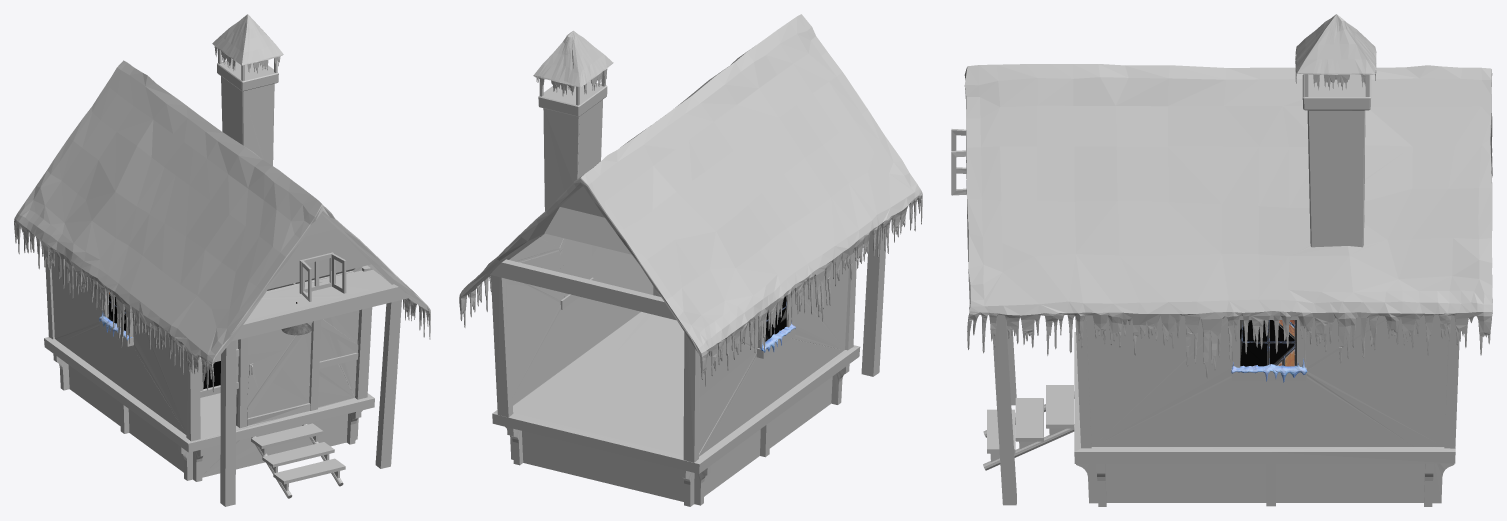
Rendered from Cabin.gltf.
The picture shows the model from 3 angles, left to right: view 1: azimuth 30°, elevation 25°; view 2: azimuth 150°, elevation 25°; view 3: azimuth 270°, elevation 25°; orthographic projection. The views are drawn at different scales.
Size of the model in its own units: 0.3431 by 0.54 by 0.5494.
